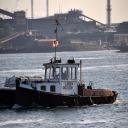tugboat: (5, 58, 120, 112)
